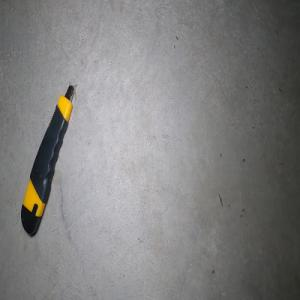Cutter: (20, 85, 75, 237)
